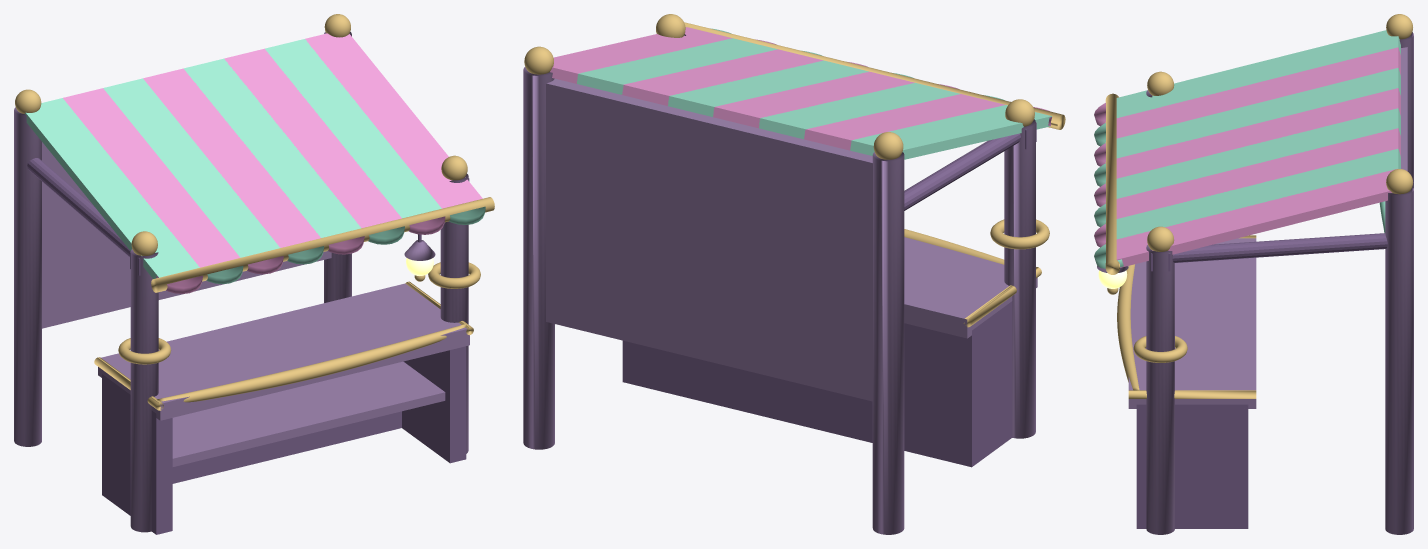
File: a-compact-whimsical-night-market-stall-for-a.glb
The picture shows the model from 3 angles, left to right: view 1: azimuth 30°, elevation 25°; view 2: azimuth 150°, elevation 25°; view 3: azimuth 270°, elevation 25°; orthographic projection. The views are drawn at different scales.
Parts seen in each view (by area): view 1: StallBody, awning, brass_trim, lantern; view 2: StallBody, awning, brass_trim; view 3: awning, StallBody, brass_trim, lantern.
Part boxes in pixels (x1,y1,x2,y2): StallBody: (14, 32, 469, 534); awning: (25, 33, 485, 293); brass_trim: (15, 14, 494, 410); lantern: (404, 234, 435, 281); StallBody: (523, 34, 1037, 534); awning: (550, 27, 1051, 159); brass_trim: (524, 14, 1065, 327); awning: (1094, 30, 1400, 268); StallBody: (1128, 32, 1413, 534); brass_trim: (1105, 14, 1413, 398); lantern: (1097, 266, 1128, 294).
Size of the model in its own units: 2 by 1.88 by 1.52.
